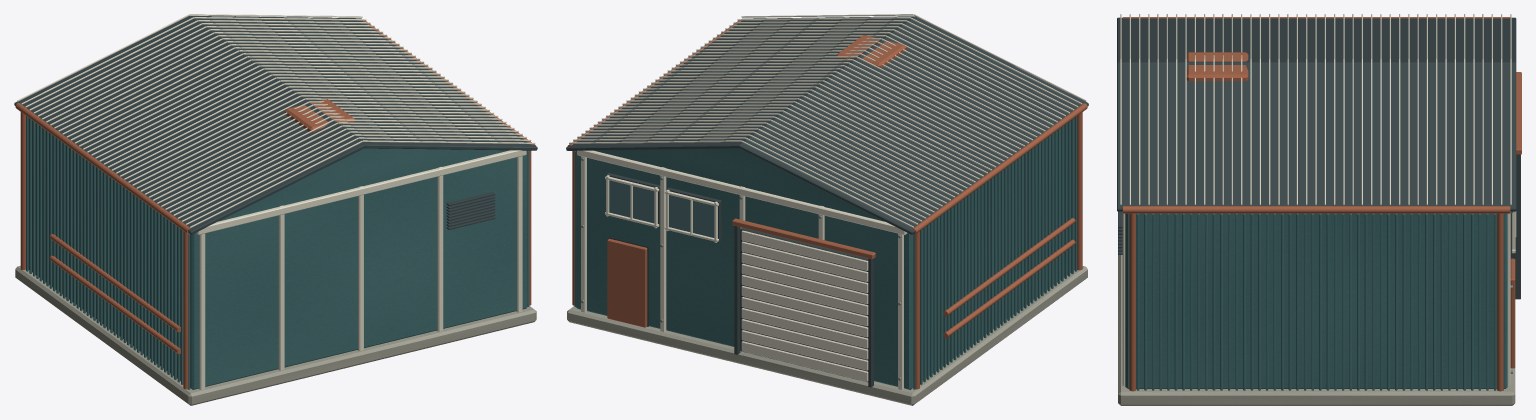
3 views of the same model, side by side, from view 1: azimuth 30°, elevation 25°; view 2: azimuth 150°, elevation 25°; view 3: azimuth 270°, elevation 25° (orthographic). The views are drawn at different scales.
Parts seen in each view (by area): view 1: static_assembly_steel, static_assembly_dark, static_assembly_ivory, static_assembly_concrete, static_assembly_rust; view 2: static_assembly_steel, static_assembly_dark, static_assembly_ivory, loading_door_panels, static_assembly_rust, static_assembly_concrete, pedestrian_door_leaf, static_assembly_glass; view 3: static_assembly_dark, static_assembly_steel, static_assembly_ivory, static_assembly_rust, static_assembly_concrete, pedestrian_door_leaf.
Part boxes in pixels (x1,y1,x2,y2): static_assembly_steel: (26,116,529,389); static_assembly_dark: (14,16,537,234); static_assembly_ivory: (17,14,535,389); static_assembly_concrete: (15,265,536,405); static_assembly_rust: (15,20,535,389); static_assembly_steel: (574,116,1077,389); static_assembly_dark: (566,16,1088,387); static_assembly_ivory: (569,14,1086,389); loading_door_panels: (741,230,868,381); static_assembly_rust: (567,20,1087,389); static_assembly_concrete: (567,266,1087,405); pedestrian_door_leaf: (607,238,647,327); static_assembly_glass: (609,180,714,237); static_assembly_dark: (1117,17,1520,299); static_assembly_steel: (1125,213,1507,390); static_assembly_ivory: (1120,14,1516,385); static_assembly_rust: (1123,17,1521,391); static_assembly_concrete: (1118,255,1515,405); pedestrian_door_leaf: (1510,258,1515,368).
Size of the model in its own units: 9 by 5.5 by 8.
7 materials, 2 textured.
